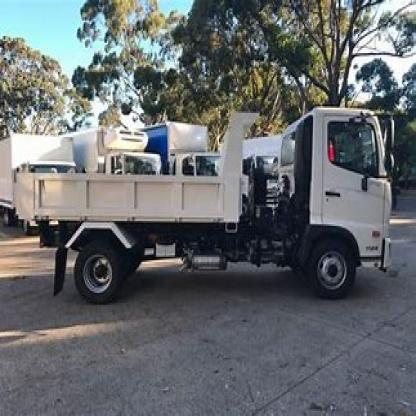dump_truck: (14, 79, 403, 327)
